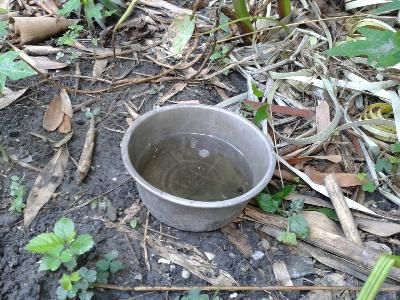bowl: (118, 101, 280, 234)
